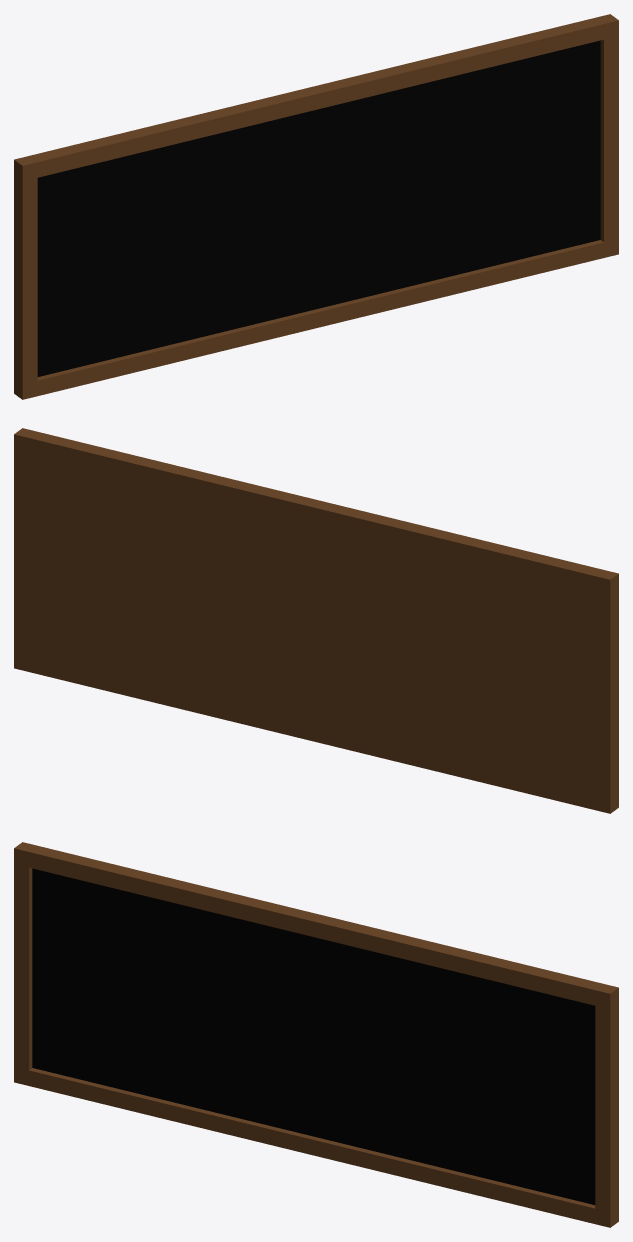
File: Cuadro_Pared02.fbx
3 renders of one model, top to bottom at view 1: azimuth 30°, elevation 25°; view 2: azimuth 150°, elevation 25°; view 3: azimuth 330°, elevation 25°, orthographic.
Visible parts, largest first — view 1: Cuadro02; view 2: Cuadro02; view 3: Cuadro02.
Part boxes in pixels (x1,y1,x2,y2): Cuadro02: (14,14,618,399); Cuadro02: (14,428,618,813); Cuadro02: (14,842,618,1227).
Size of the model in its own units: 200 by 75 by 5.
